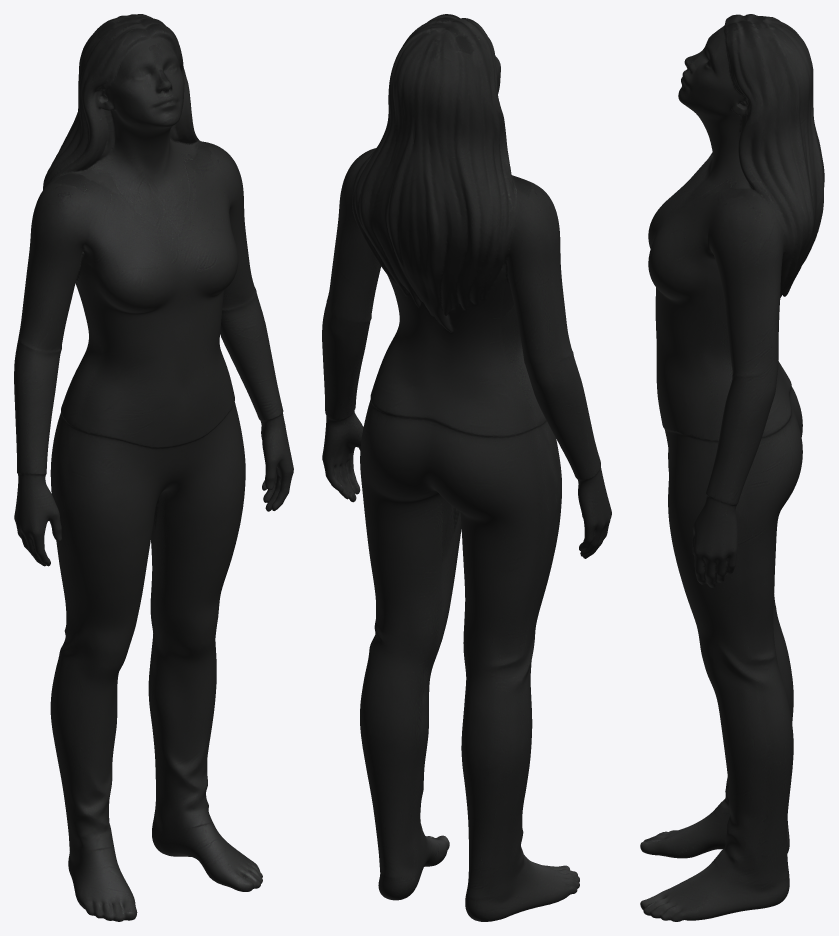
File: Female.glb
3 renders of one model, left to right at view 1: azimuth 30°, elevation 25°; view 2: azimuth 150°, elevation 25°; view 3: azimuth 270°, elevation 25°, orthographic. The views are drawn at different scales.
Bounding box in the file's own units: 0.6323 × 1.9 × 0.3685.
Materials: 1 (1 with a texture image).
